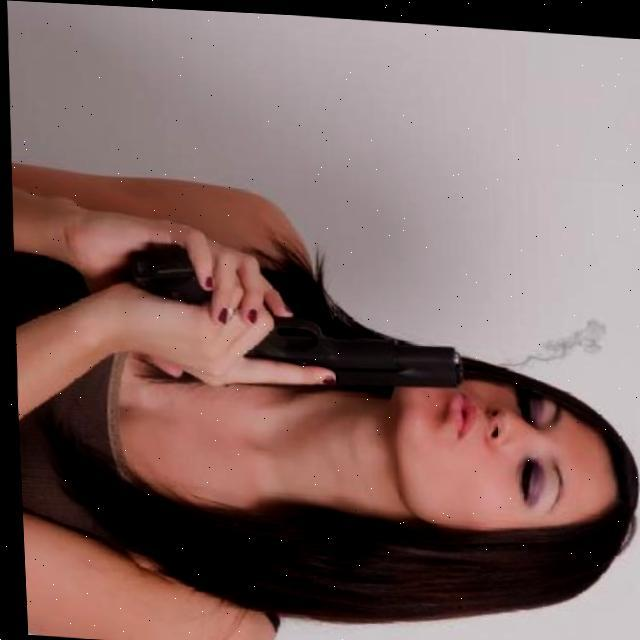gun: (121, 241, 458, 395)
